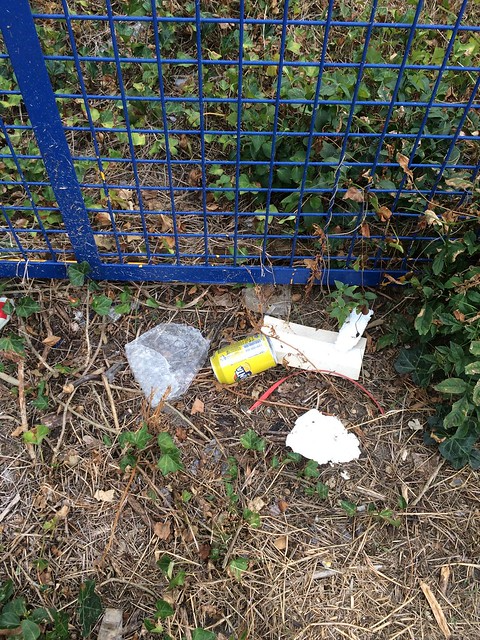can: (210, 332, 281, 396)
